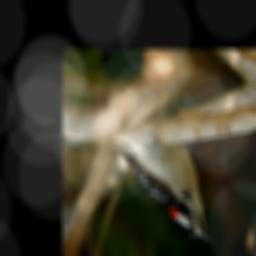Woodpecker: (86, 118, 223, 248)
